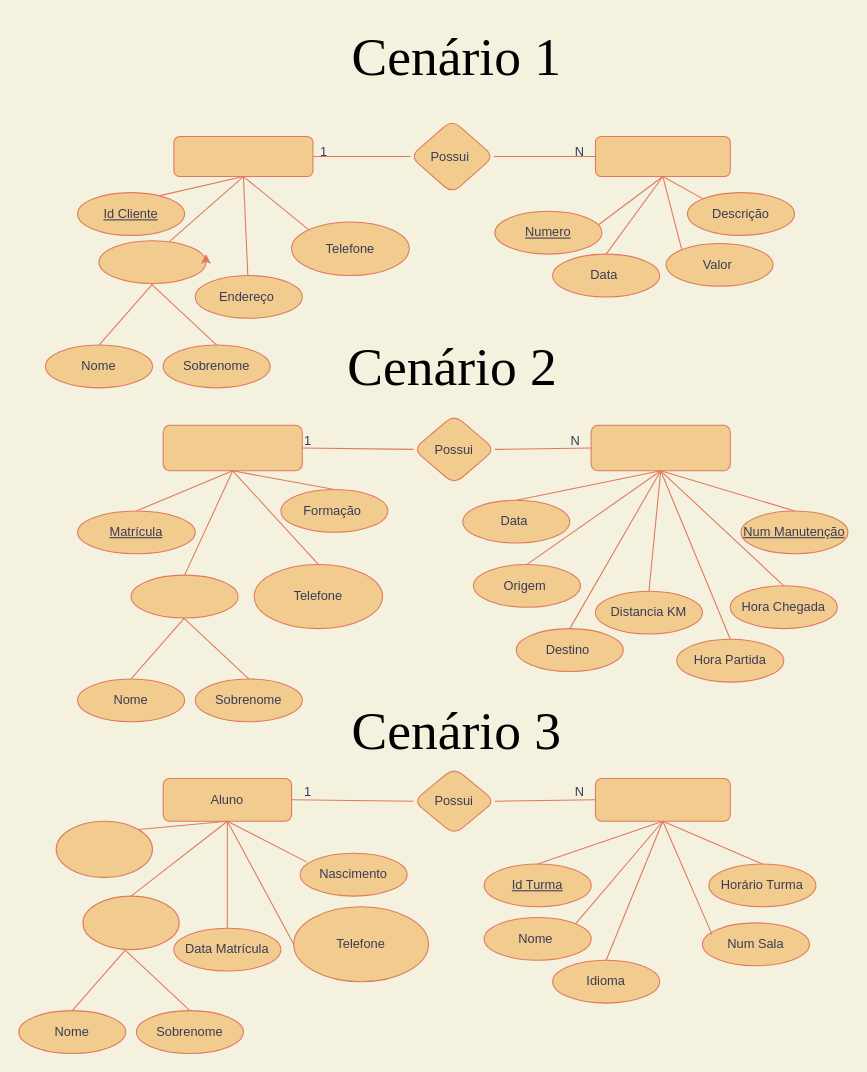
The diagram is 867 pixels wide and 1072 high, and some of its shapes have lost their labels. The shapes that lost their labels are listed below. From the top down, each one's centre as x and y in pixels, then its label:
point (243, 156): Cliente
point (662, 156): Pedidos
point (152, 262): Nome_cliente
point (232, 447): Técnico
point (660, 447): Viagens
point (184, 596): Nome_tecnico
point (662, 799): Cursos
point (103, 848): Ra
point (130, 922): Nome_aluno
